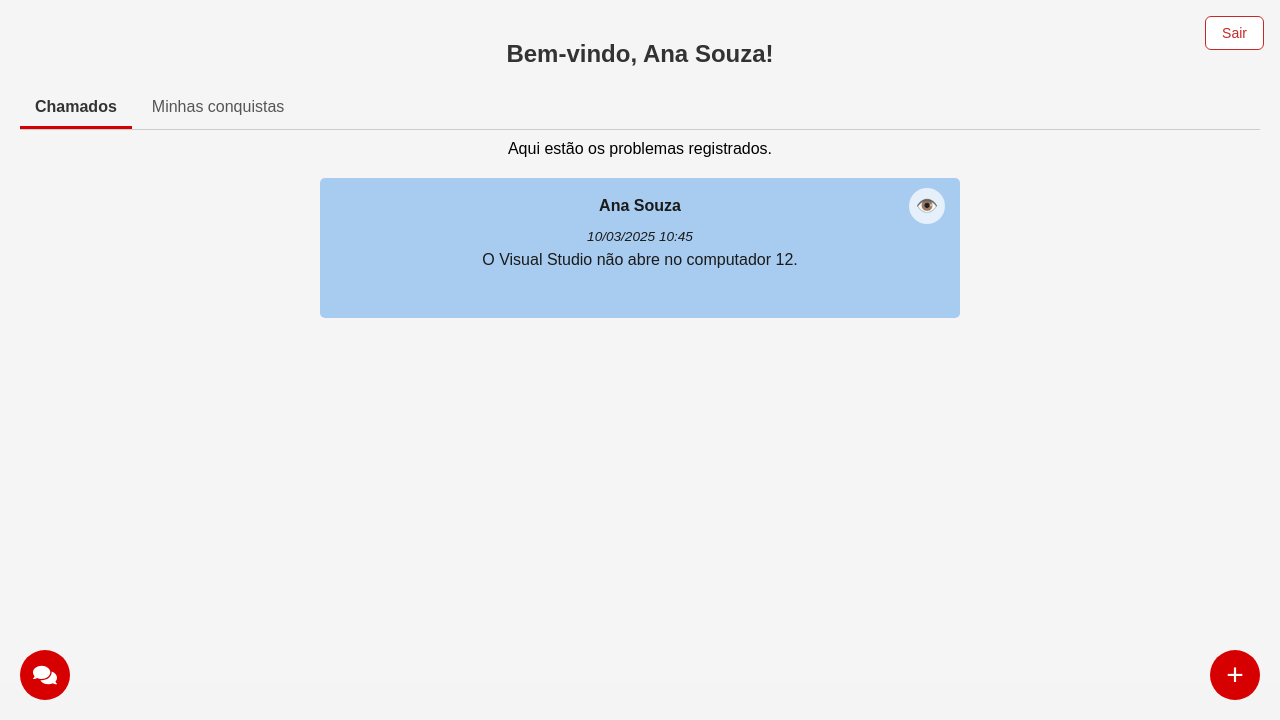
Test: TelaAluno — anexo por URL (AC-IMG-01) › NÃO abre por window.open: o anexo abre em visualizador (AC-IMG-10)
The image size is (1280, 720).
Click the button titled "Ver imagem" at (927, 206), box [909,188,945,224]
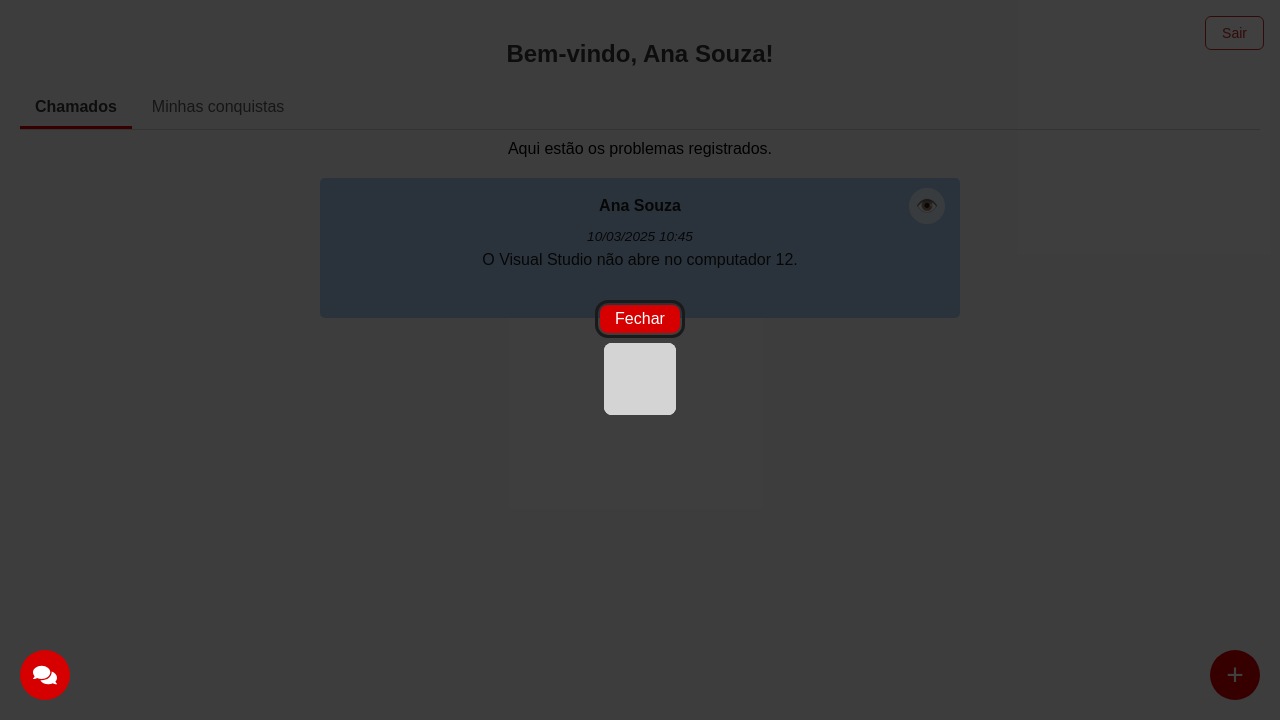
Check: the dialog is shown
